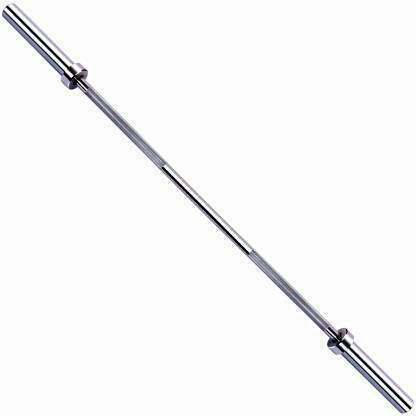Barbell: (1, 1, 36, 28)
